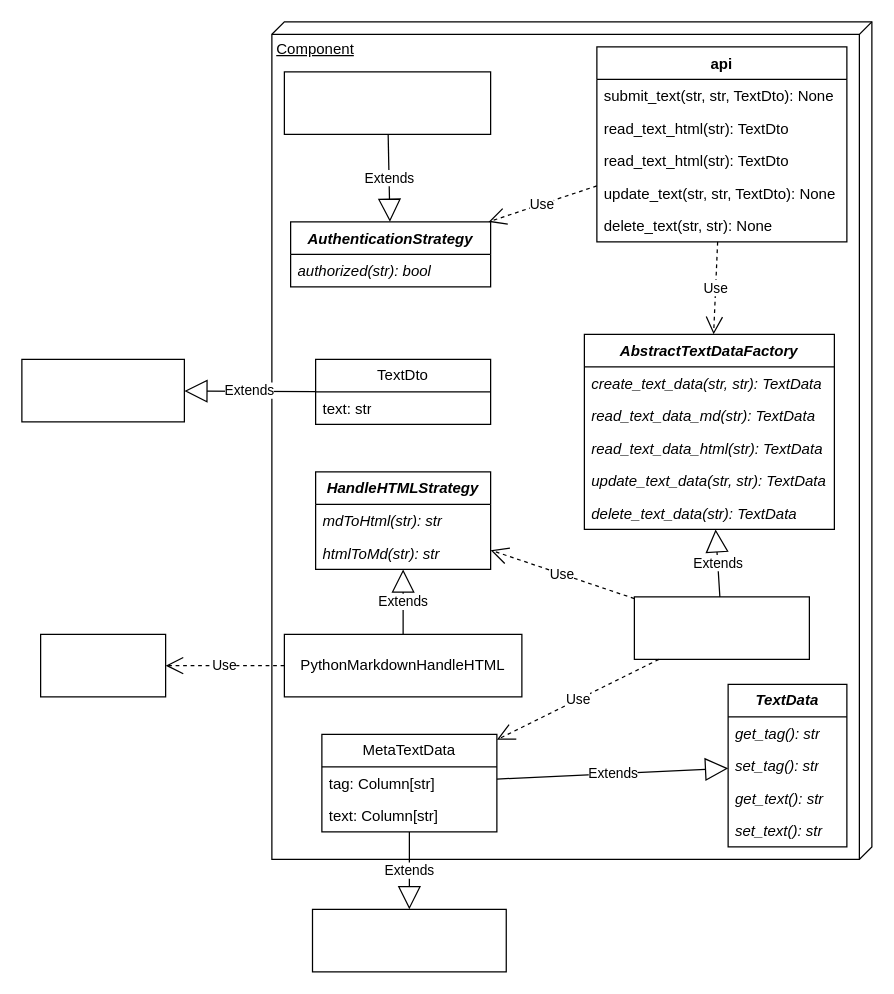
Image size: 894x994. Some labels were removed from this diagram. Here are the shapes that lost their labels. From the top down, the centre of each, then its label:
At (387,102): "PyAcctAuthentication".
At (102,390): "Pydantic.BaseModel".
At (721,627): "MetaTextDataFactory".
At (102,665): "markdown".
At (408,940): "SQLAlchemy.MetaData".
